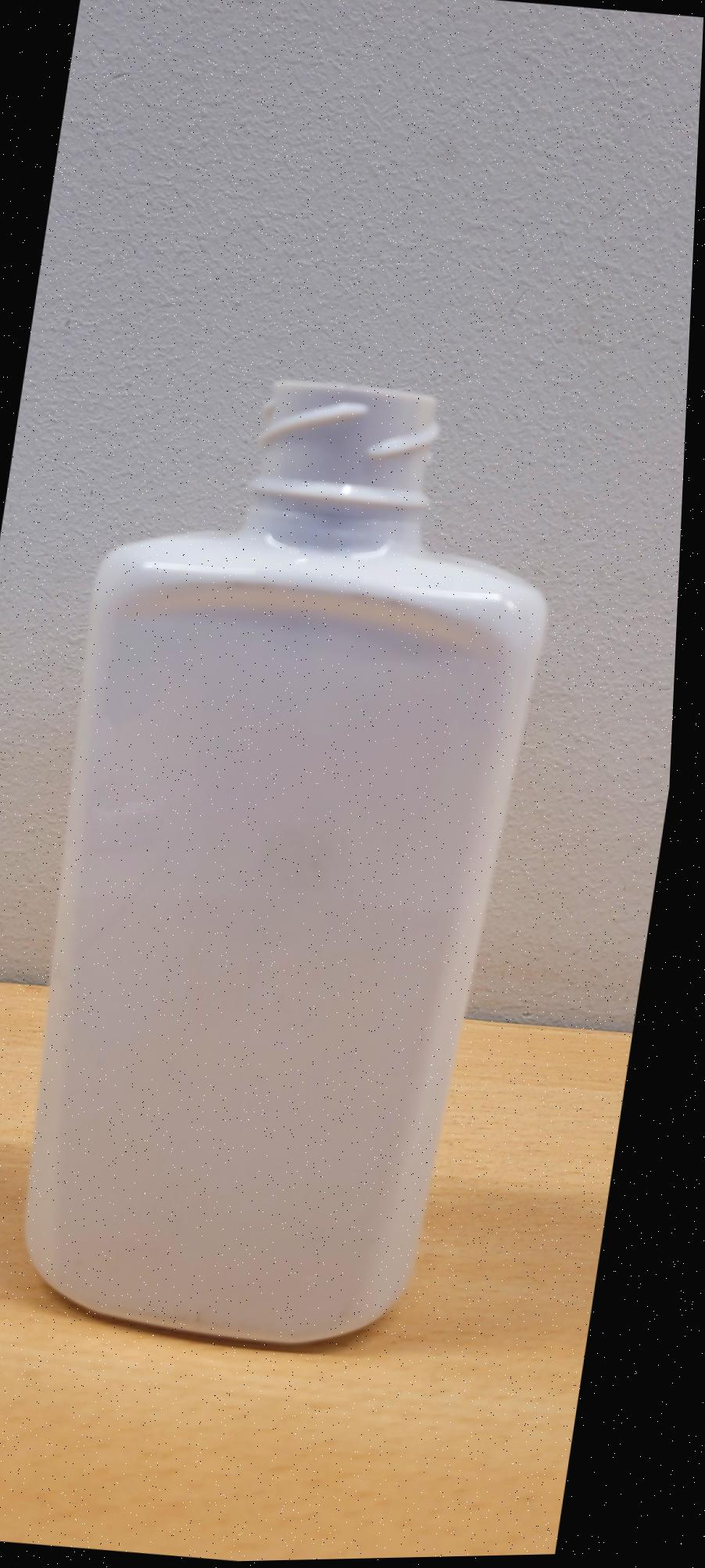bottle: (26, 380, 546, 1345)
